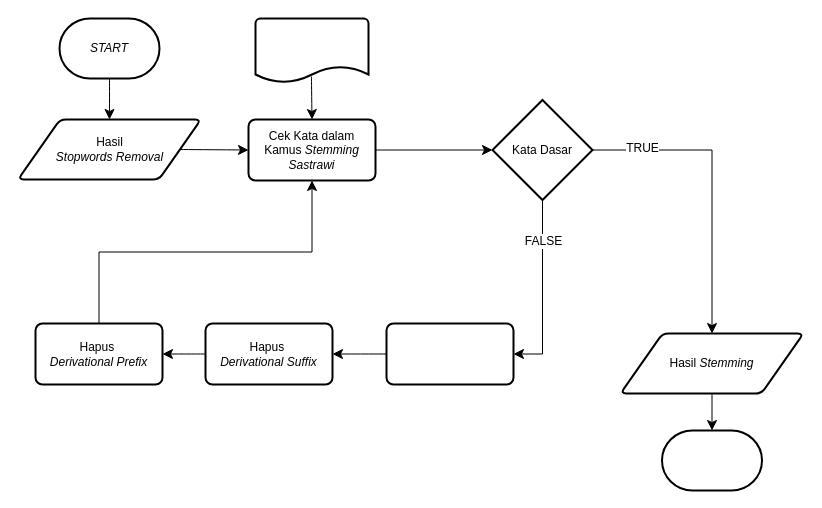
This 822x508 diagram has some shape labels left out. Here are the shapes that lost their labels. From the top down, the centre of each, then its label:
At (x=311, y=50): "Kamus Stemming".
At (x=449, y=353): "Hapus Inflection Suffixes".
At (x=711, y=460): "END".
